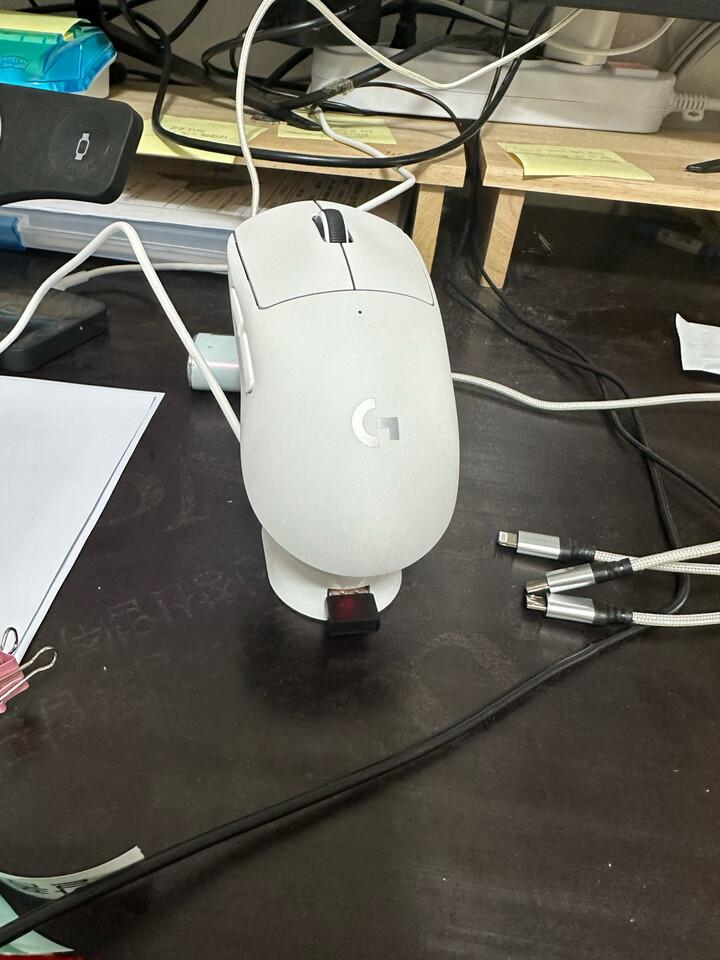mouse: (224, 197, 461, 620)
